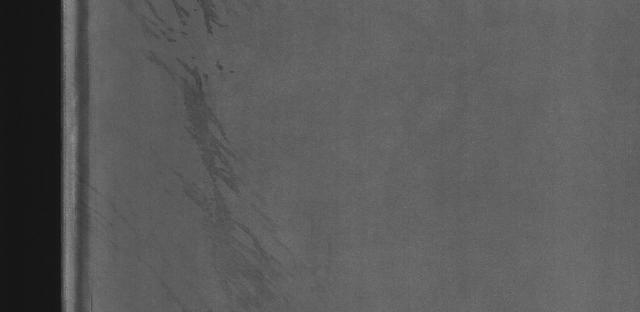water_spot: (139, 6, 275, 300)
